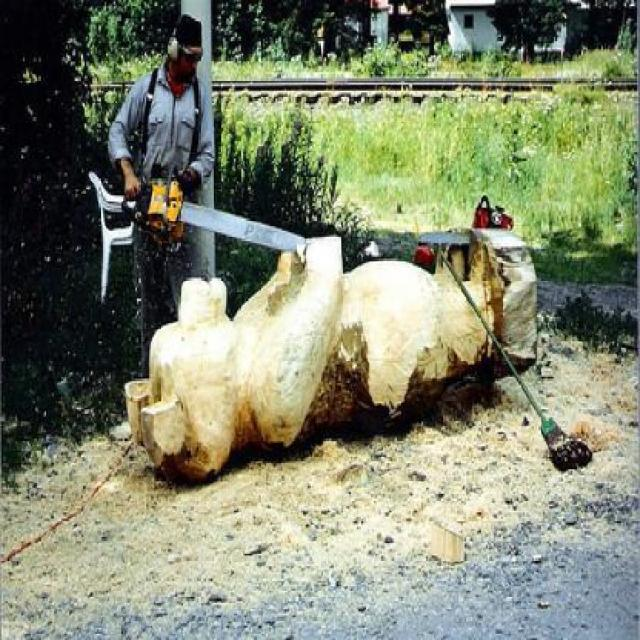Chainsaw: (125, 170, 300, 258), (420, 192, 515, 246)
